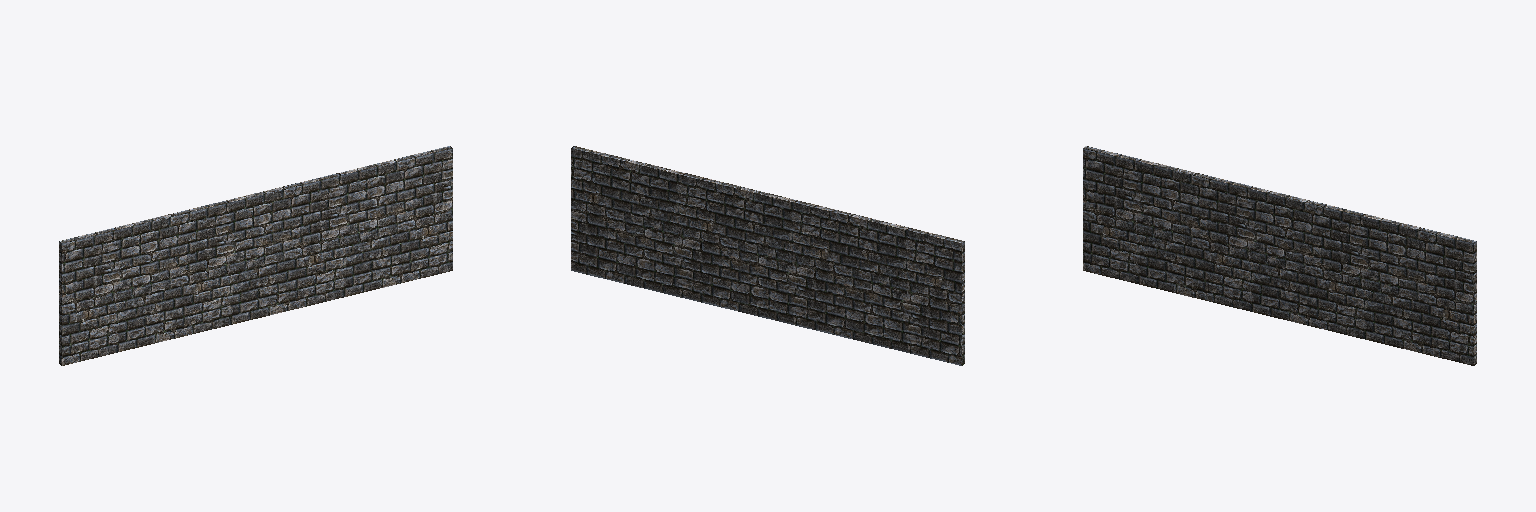
3 renders of one model, left to right at view 1: azimuth 30°, elevation 25°; view 2: azimuth 150°, elevation 25°; view 3: azimuth 330°, elevation 25°, orthographic.
Bounding box in the file's own units: 1 × 0.3 × 0.014.
Materials: 1 (1 with a texture image).